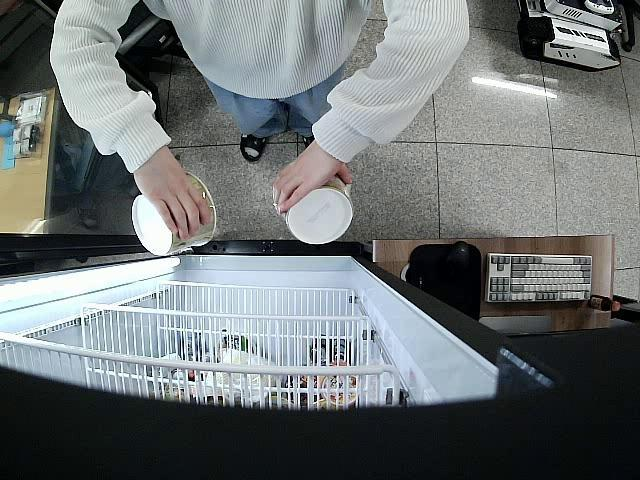03_chapagetti_L: (133, 174, 218, 255), (270, 167, 355, 243)
